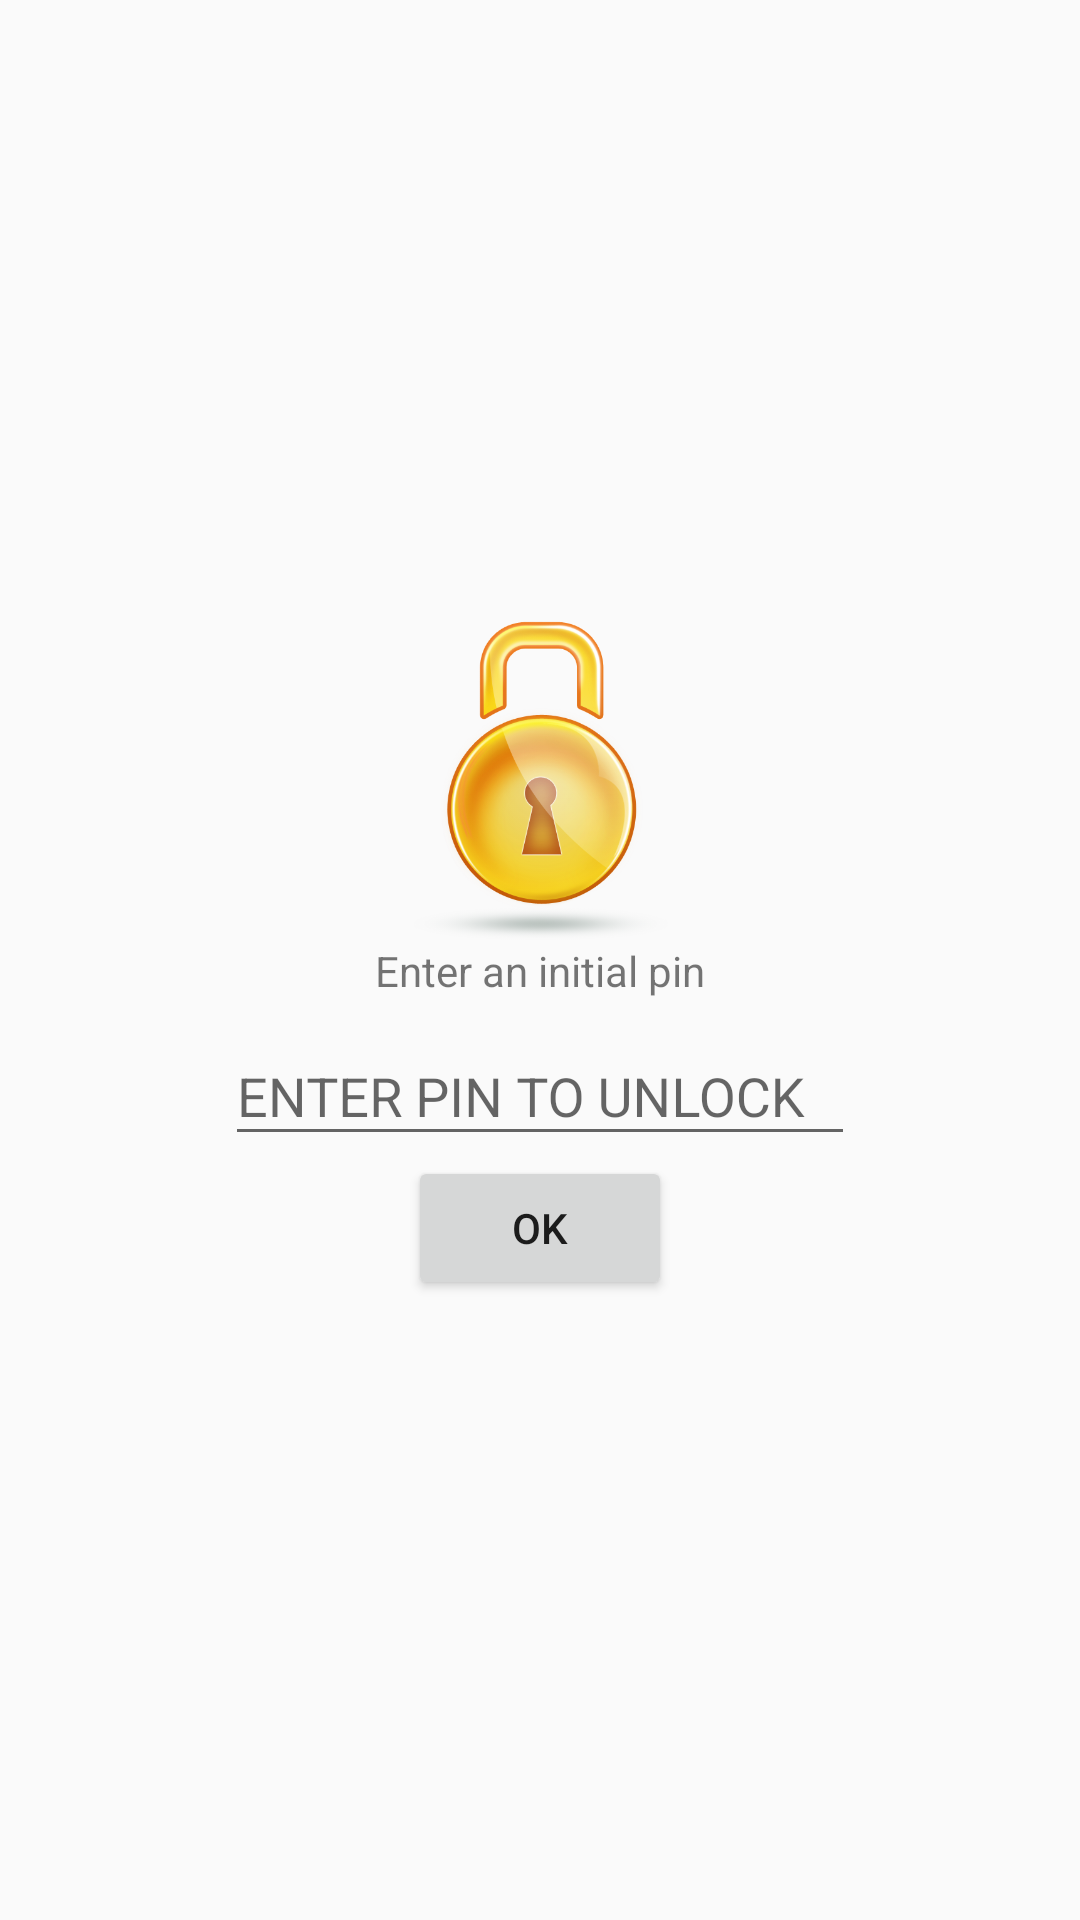

Named icons in this screenshot (1080w x 1920h) and their bounding boxes, [x1,y1,x2,y2]:
lock: [447,622,637,932]
